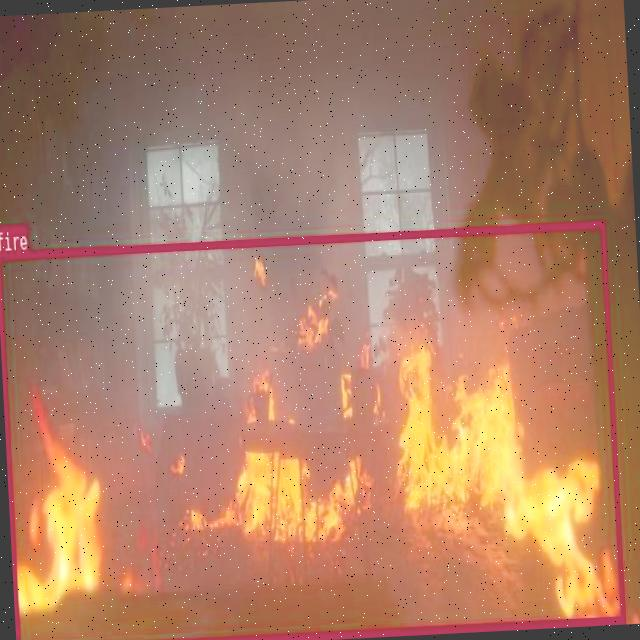fire: (0, 219, 624, 640)
